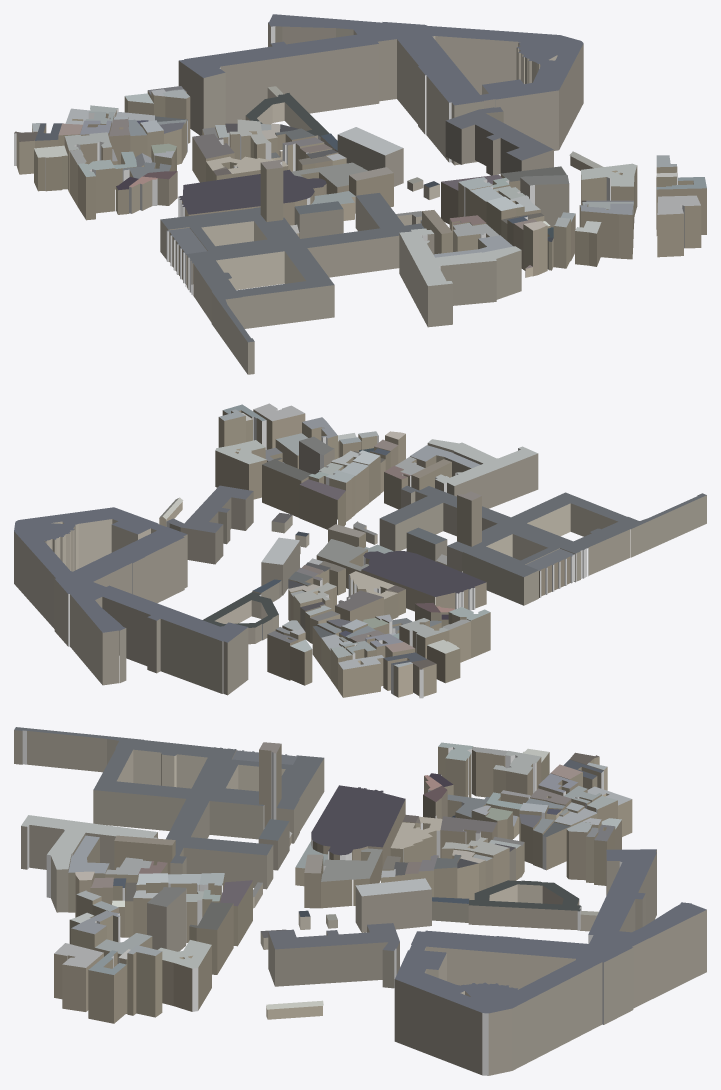
3 renders of one model, top to bottom at view 1: azimuth 30°, elevation 25°; view 2: azimuth 150°, elevation 25°; view 3: azimuth 270°, elevation 25°, orthographic. The views are drawn at different scales.
Parts seen in each view (by area): view 1: tuile; view 2: tuile; view 3: tuile.
Boxes of the visible parts, x1,y1,x2,y2 form: tuile: (14,14,706,374); tuile: (14,403,706,698); tuile: (14,727,706,1075).
Bounding box in the file's own units: 315 × 60.96 × 323.
